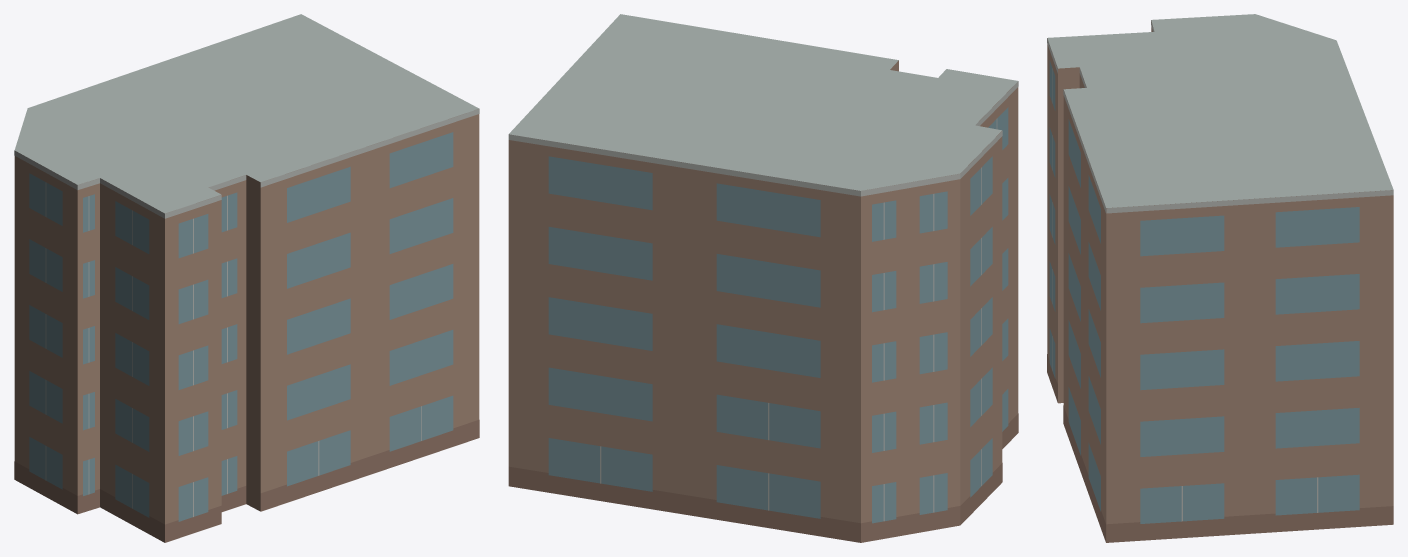
Rendered from survey-upis-32575641.glb.
The picture shows the model from 3 angles, left to right: view 1: azimuth 30°, elevation 25°; view 2: azimuth 150°, elevation 25°; view 3: azimuth 270°, elevation 25°; orthographic projection. The views are drawn at different scales.
Parts seen in each view (by area): view 1: survey-upis-32575641.tmp; view 2: survey-upis-32575641.tmp; view 3: survey-upis-32575641.tmp.
Boxes of the visible parts, <box> form: survey-upis-32575641.tmp: <box>14,14,479,542</box>; survey-upis-32575641.tmp: <box>508,14,1018,542</box>; survey-upis-32575641.tmp: <box>1047,14,1393,542</box>.
Bounding box in the file's own units: 18.98 × 15.25 × 14.31.
